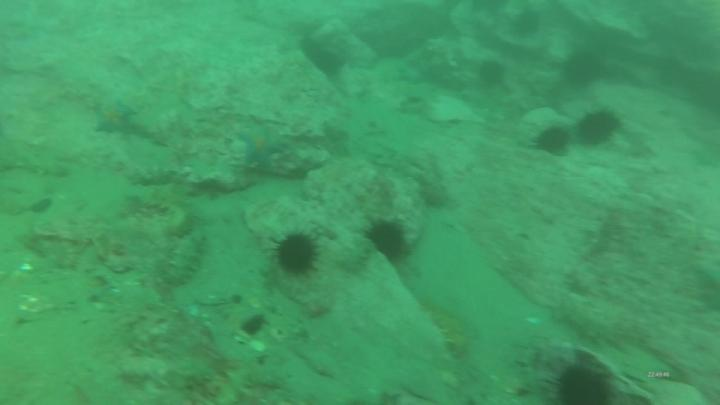echinus: (549, 356, 611, 405), (268, 228, 324, 280), (578, 109, 626, 147), (559, 50, 605, 87), (531, 121, 575, 155), (307, 45, 344, 81), (476, 57, 509, 89), (512, 9, 544, 40)
holothurian: (212, 366, 297, 405), (417, 298, 470, 356), (139, 188, 198, 238), (168, 226, 211, 292), (339, 235, 379, 275)
starfish: (232, 116, 288, 171), (89, 98, 138, 138)
